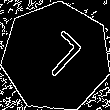L_SW: (28, 28, 84, 86)
